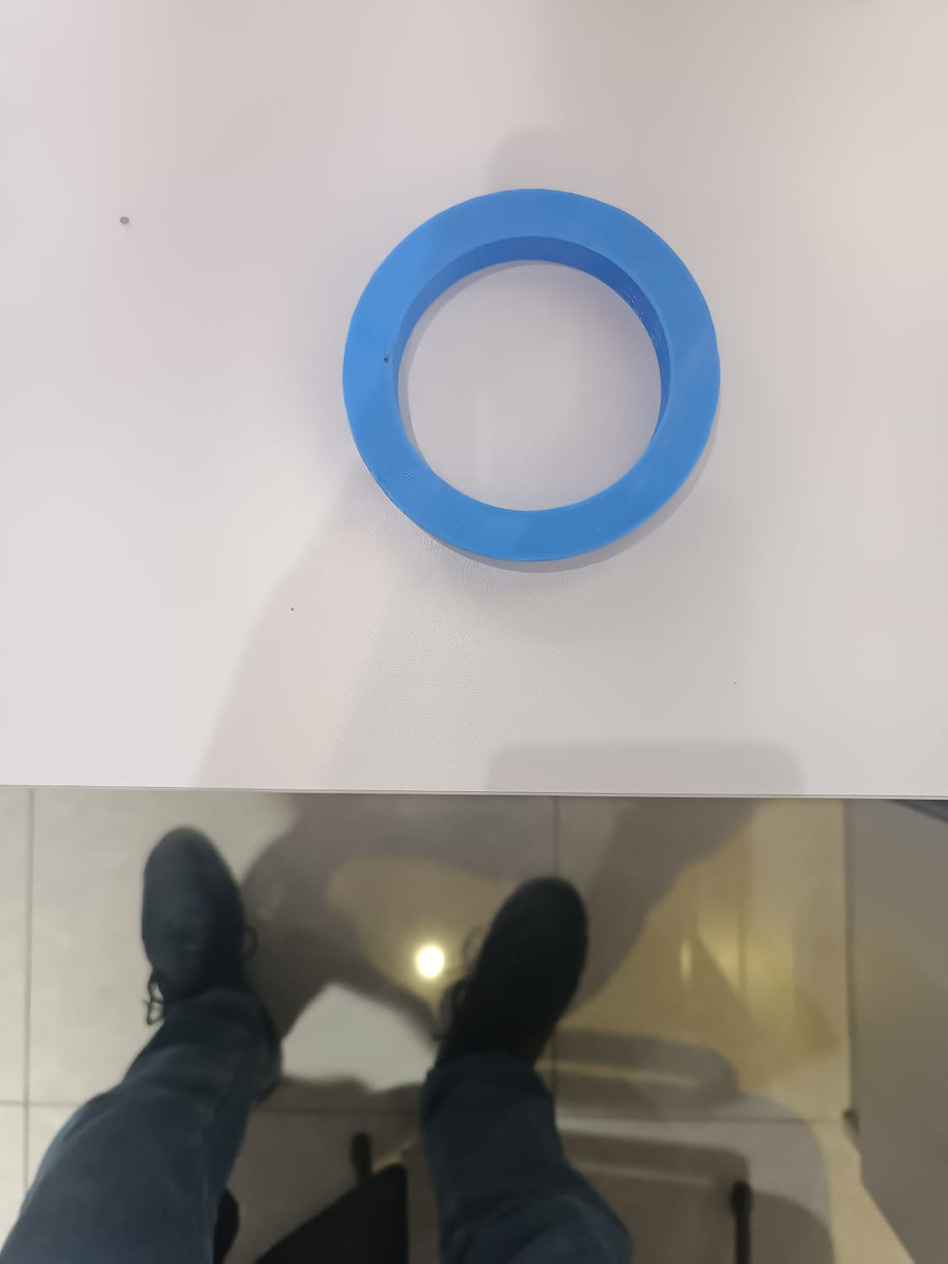Circle: (338, 183, 736, 574)
